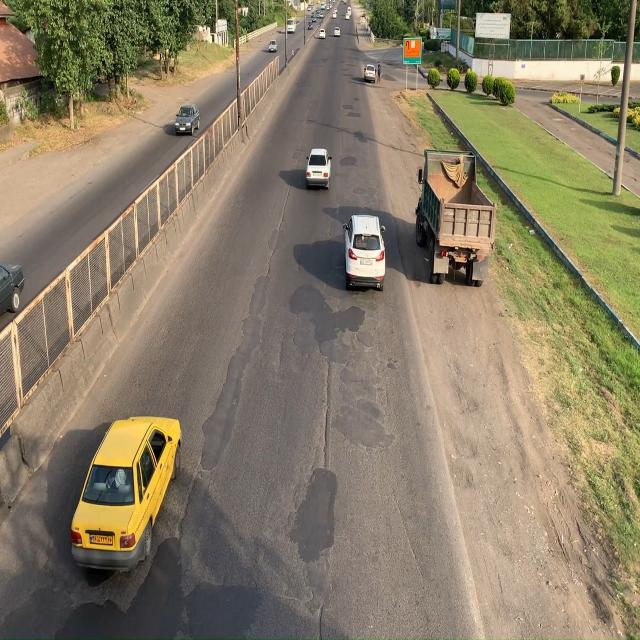Truck: (415, 148, 494, 286)
cars: (70, 415, 181, 574), (344, 212, 386, 293), (304, 147, 332, 190), (172, 103, 200, 138)
